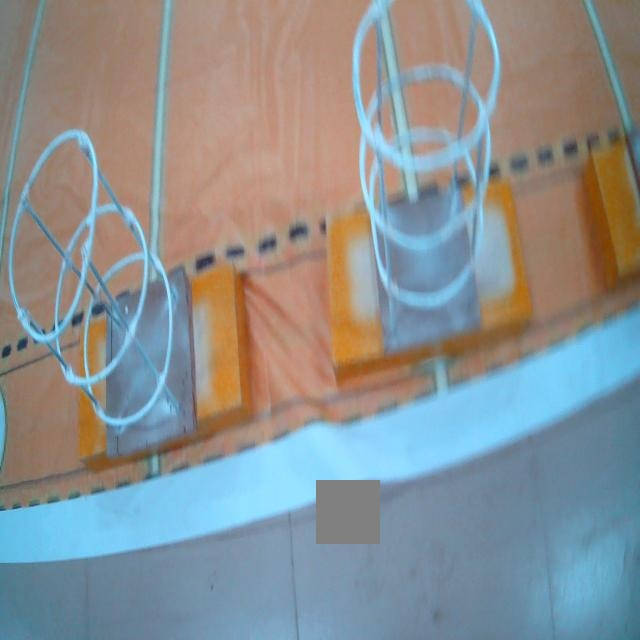silo: (0, 116, 214, 455), (350, 0, 500, 335)
